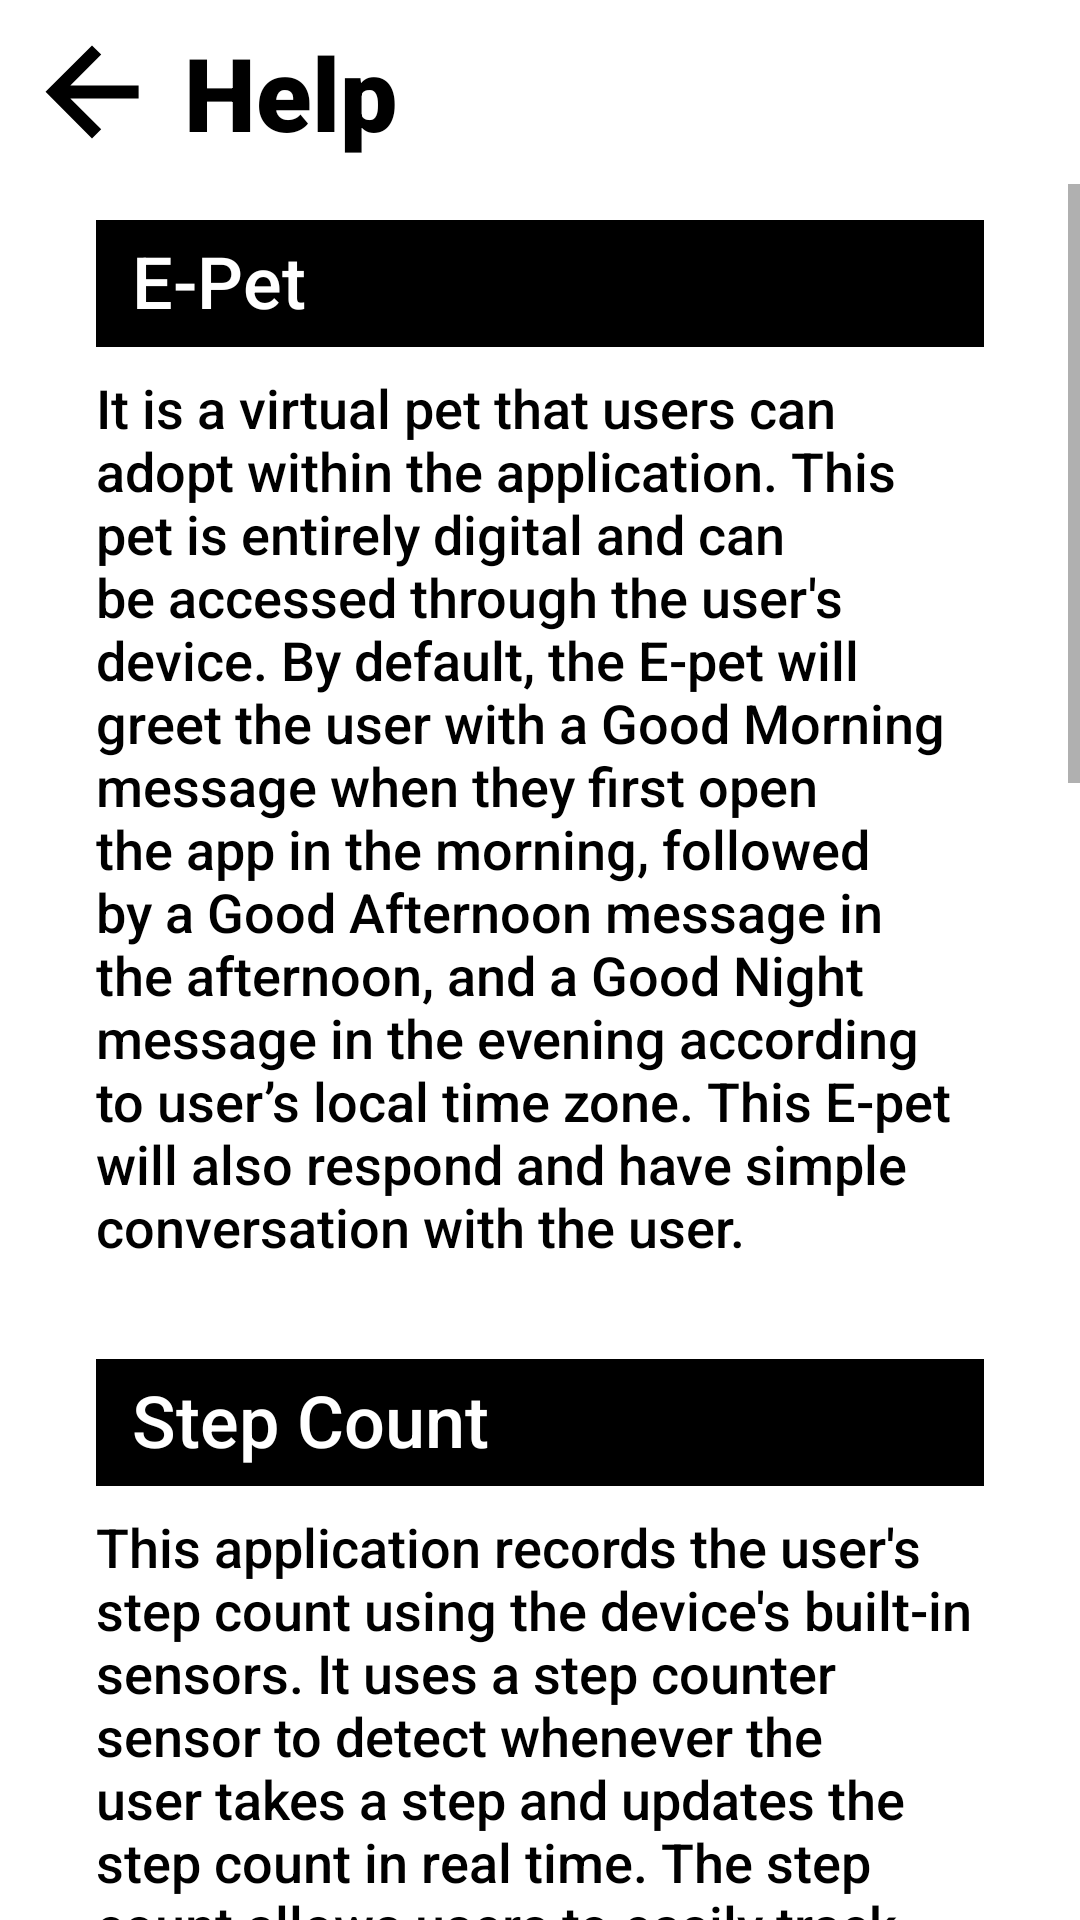

Icons on this 1080*1920 Android screen, each with its box as bbox=[x1, y1, x2, y2]:
arrow back: bbox=[45, 45, 139, 139]
